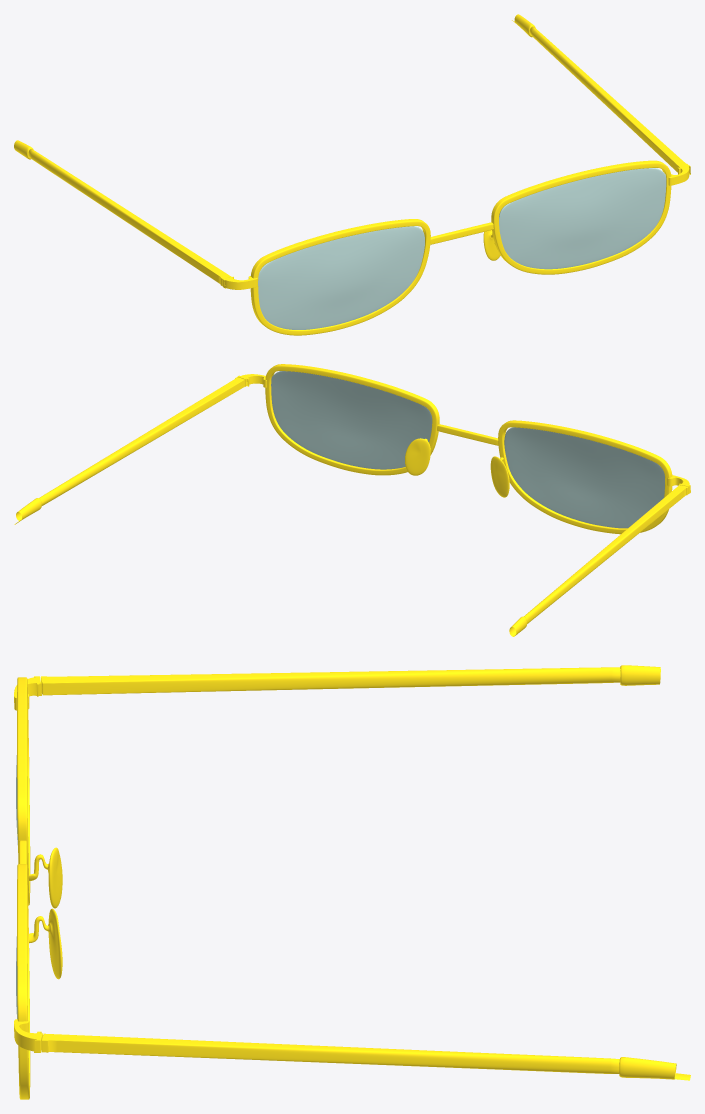
File: rectangle-eyeglasses-gold.glb
The picture shows the model from 3 angles, top to bottom: view 1: azimuth 30°, elevation 25°; view 2: azimuth 150°, elevation 25°; view 3: azimuth 270°, elevation 25°; orthographic projection. The views are drawn at different scales.
Parts seen in each view (by area): view 1: main, right, left_ear; view 2: main, left_ear, right; view 3: left_ear, right, main.
Part boxes in pixels (box(x1,y1,x2,y2)): main: box(225, 160, 689, 335); right: box(14, 140, 232, 288); left_ear: box(512, 14, 690, 174); main: box(241, 364, 689, 534); left_ear: box(14, 375, 246, 524); right: box(509, 484, 690, 636); left_ear: box(34, 1033, 690, 1080); right: box(34, 665, 660, 695); main: box(14, 677, 62, 1099).
Size of the model in its own units: 2.22 by 0.4027 by 1.59.
2 materials, 1 textured.
